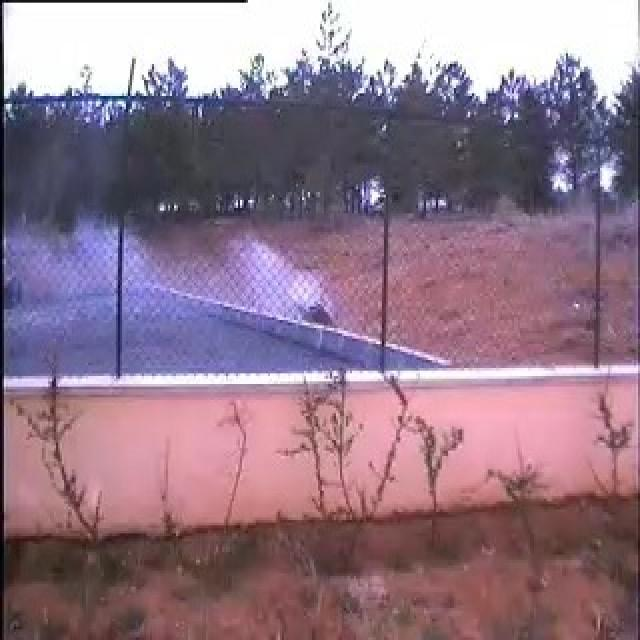smoke: (66, 202, 340, 378)
